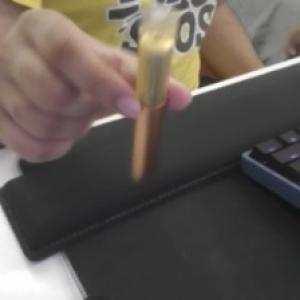Golden-E-Ciggirate: (131, 11, 176, 184)
